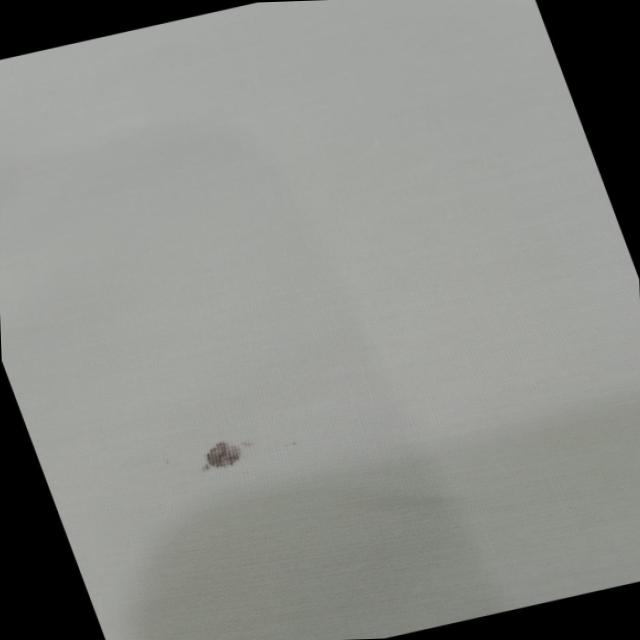stain: (162, 414, 276, 494)
